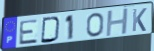1: (64, 14, 75, 41)
D: (40, 16, 62, 44)
E: (19, 18, 40, 46)
H: (105, 7, 130, 38)
K: (131, 7, 148, 33)
O: (86, 12, 105, 38)
